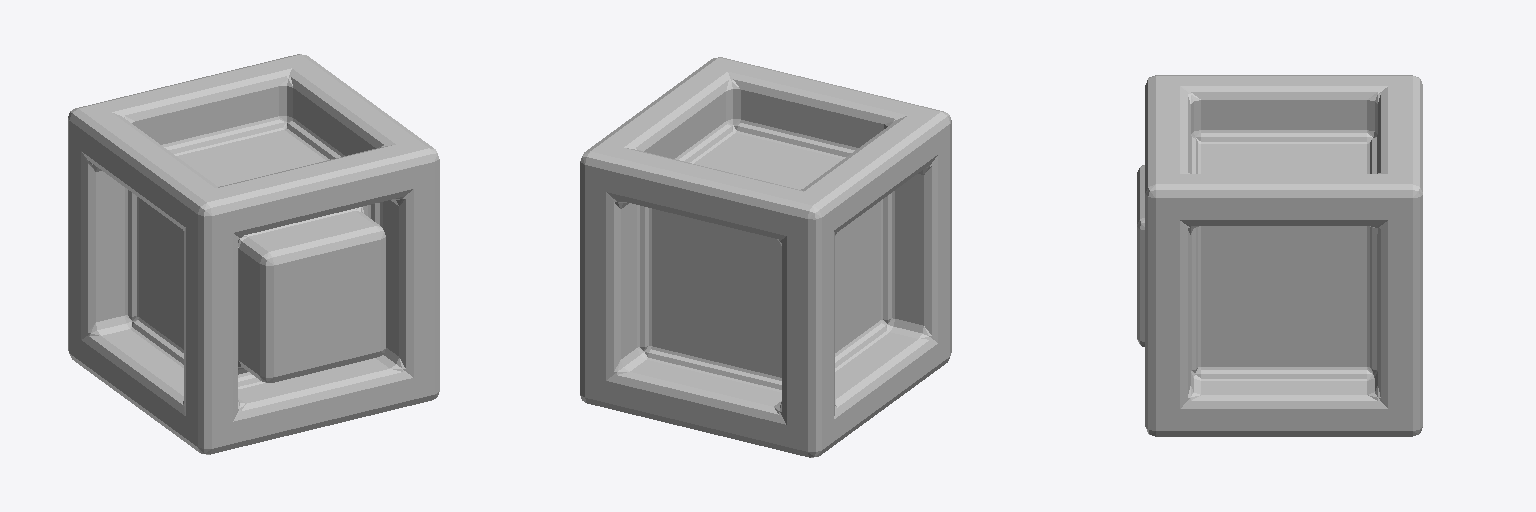
Rendered from joint.obj.
The picture shows the model from 3 angles: view 1: azimuth 30°, elevation 25°; view 2: azimuth 150°, elevation 25°; view 3: azimuth 270°, elevation 25°; orthographic projection.
Parts seen in each view (by area): view 1: Cube; view 2: Cube; view 3: Cube.
Part boxes in pixels (x1,y1,x2,y2): Cube: (68, 54, 439, 454); Cube: (580, 57, 951, 457); Cube: (1137, 75, 1422, 436).
Size of the model in its own units: 1 by 1 by 1.03.